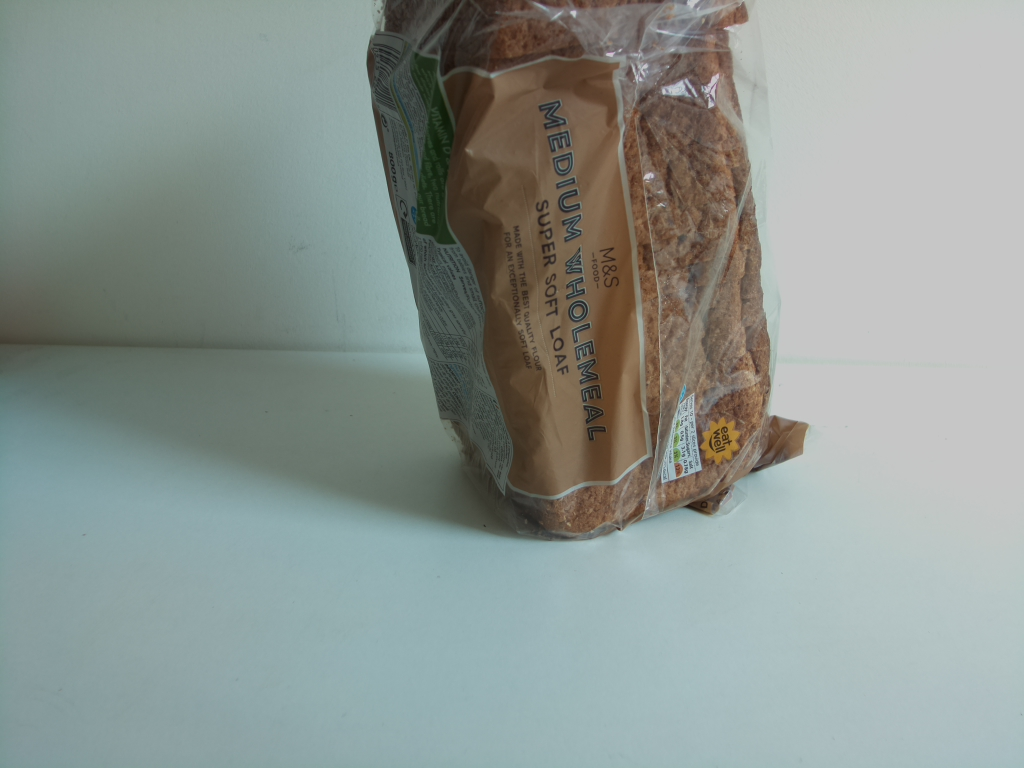bread: (361, 1, 819, 540)
